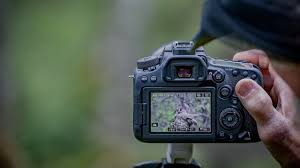camera: (135, 48, 266, 143)
